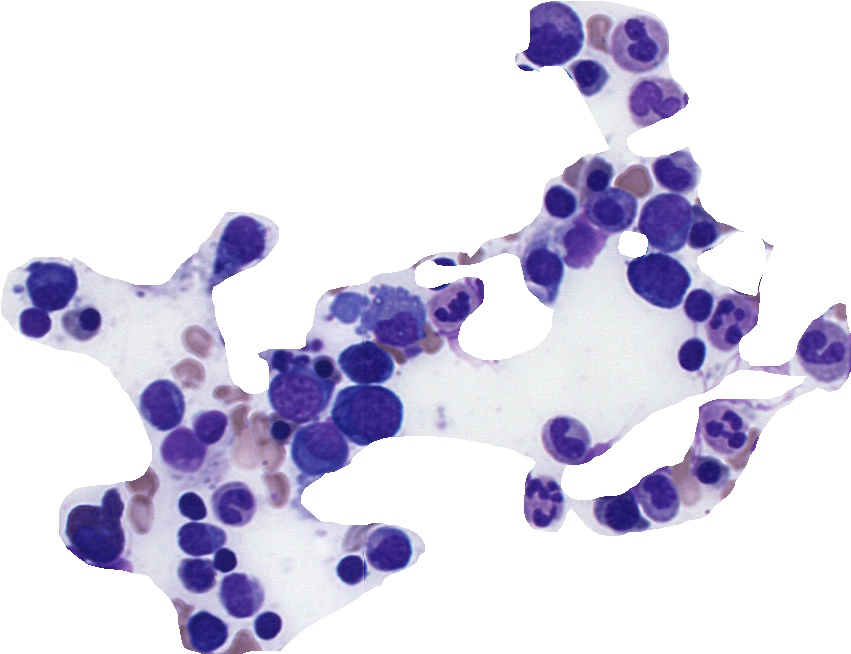objectness: (24, 260, 74, 310), (699, 405, 749, 455), (629, 73, 679, 123), (429, 283, 479, 333), (704, 291, 754, 341), (204, 477, 254, 527), (522, 474, 572, 524), (525, 8, 575, 58), (587, 182, 637, 232), (71, 509, 121, 559), (795, 328, 845, 378), (649, 145, 699, 195), (635, 470, 685, 520), (617, 16, 667, 66), (539, 414, 589, 464), (338, 387, 388, 437), (640, 194, 690, 244), (139, 379, 189, 429), (670, 279, 720, 329), (213, 216, 263, 266), (361, 520, 411, 570), (293, 421, 343, 471), (199, 534, 249, 584), (9, 297, 59, 347), (167, 480, 217, 530), (326, 544, 376, 594), (218, 570, 268, 620), (183, 400, 233, 450), (553, 214, 603, 264), (241, 600, 291, 650), (323, 284, 373, 334), (666, 329, 716, 379), (367, 295, 417, 345), (153, 420, 203, 470), (517, 243, 567, 293), (679, 210, 729, 260), (563, 46, 613, 96), (339, 337, 389, 387), (684, 447, 734, 497), (269, 376, 319, 426), (253, 406, 303, 456), (299, 342, 349, 392), (593, 486, 643, 536), (170, 550, 220, 600), (572, 148, 622, 198), (59, 293, 109, 343), (179, 605, 229, 654)
